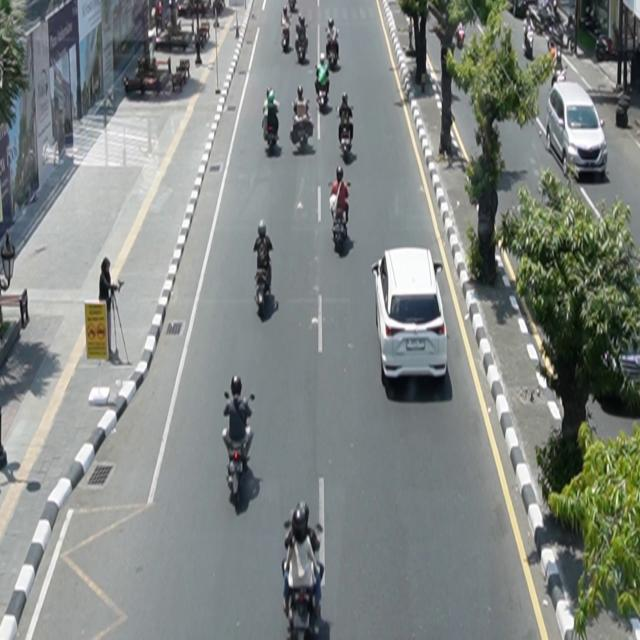car: (372, 247, 449, 383), (546, 82, 609, 182)
